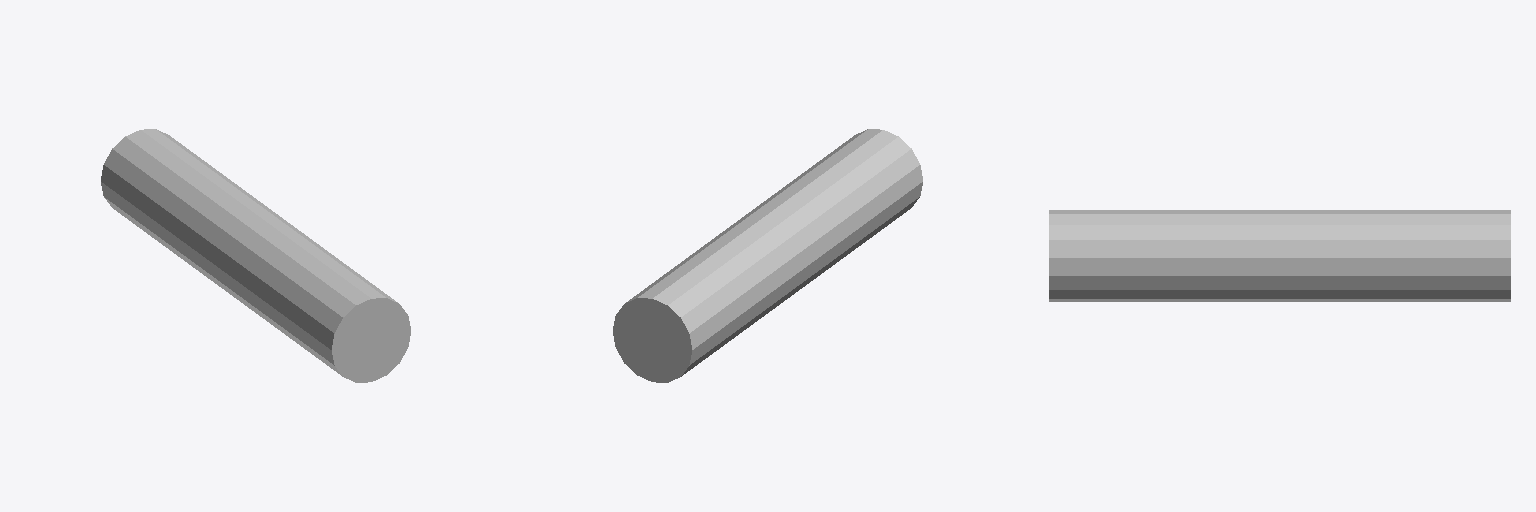
File: BDD_Mat04.obj
3 renders of one model, left to right at view 1: azimuth 30°, elevation 25°; view 2: azimuth 150°, elevation 25°; view 3: azimuth 270°, elevation 25°, orthographic.
Parts seen in each view (by area): view 1: Mat04; view 2: Mat04; view 3: Mat04.
Part boxes in pixels (bbox=[...]): Mat04: bbox=[101, 129, 410, 382]; Mat04: bbox=[613, 129, 922, 382]; Mat04: bbox=[1049, 210, 1510, 301].
Size of the model in its own units: 0.1 by 0.1 by 0.5.